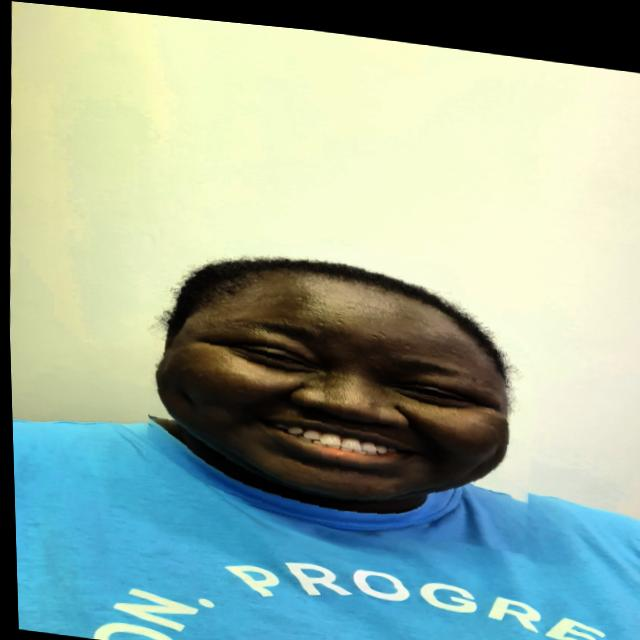happy: (137, 224, 541, 541)
